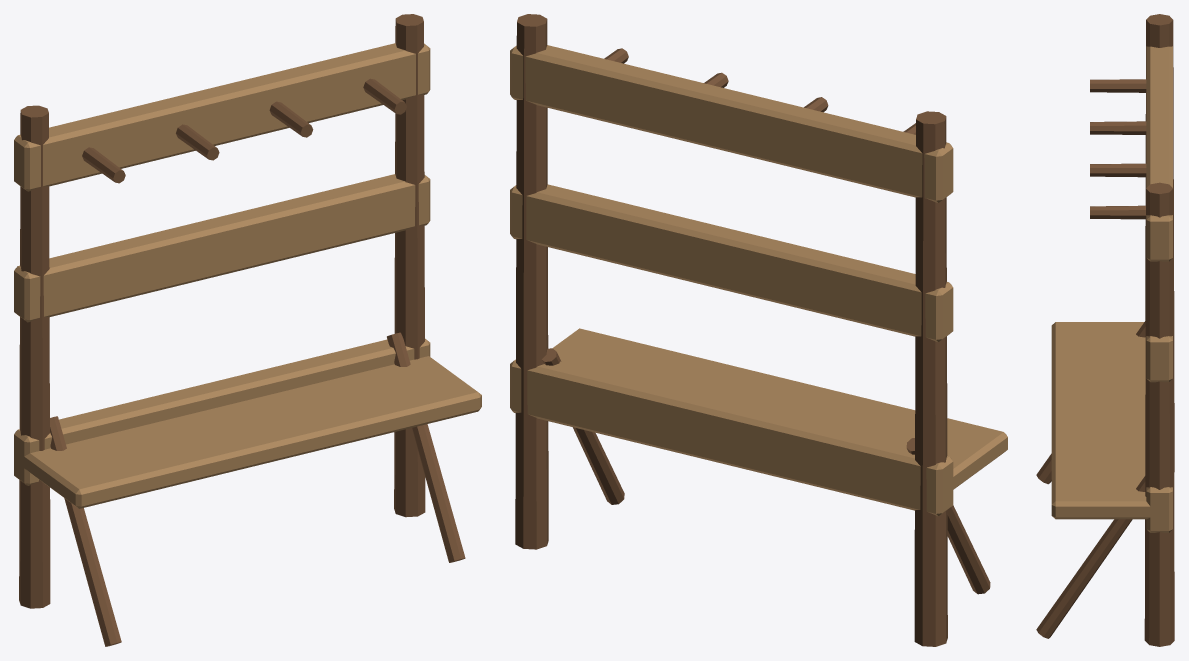
3 views of the same model, side by side, from view 1: azimuth 30°, elevation 25°; view 2: azimuth 150°, elevation 25°; view 3: azimuth 270°, elevation 25° (orthographic). The views are drawn at different scales.
Parts seen in each view (by area): view 1: WW-064 Pegged woodland tool wall batched; view 2: WW-064 Pegged woodland tool wall batched; view 3: WW-064 Pegged woodland tool wall batched.
Boxes of the visible parts, x1,y1,x2,y2 form: WW-064 Pegged woodland tool wall batched: (14, 14, 481, 646); WW-064 Pegged woodland tool wall batched: (510, 14, 1007, 646); WW-064 Pegged woodland tool wall batched: (1036, 14, 1174, 646).
Bounding box in the file's own units: 1.3 × 1.51 × 0.4161.
